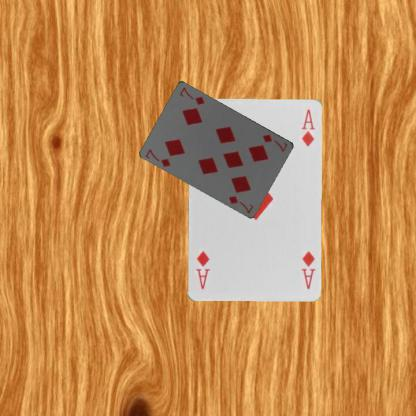7d: (143, 146, 172, 168), (260, 132, 289, 153)
Ad: (298, 248, 316, 290)
